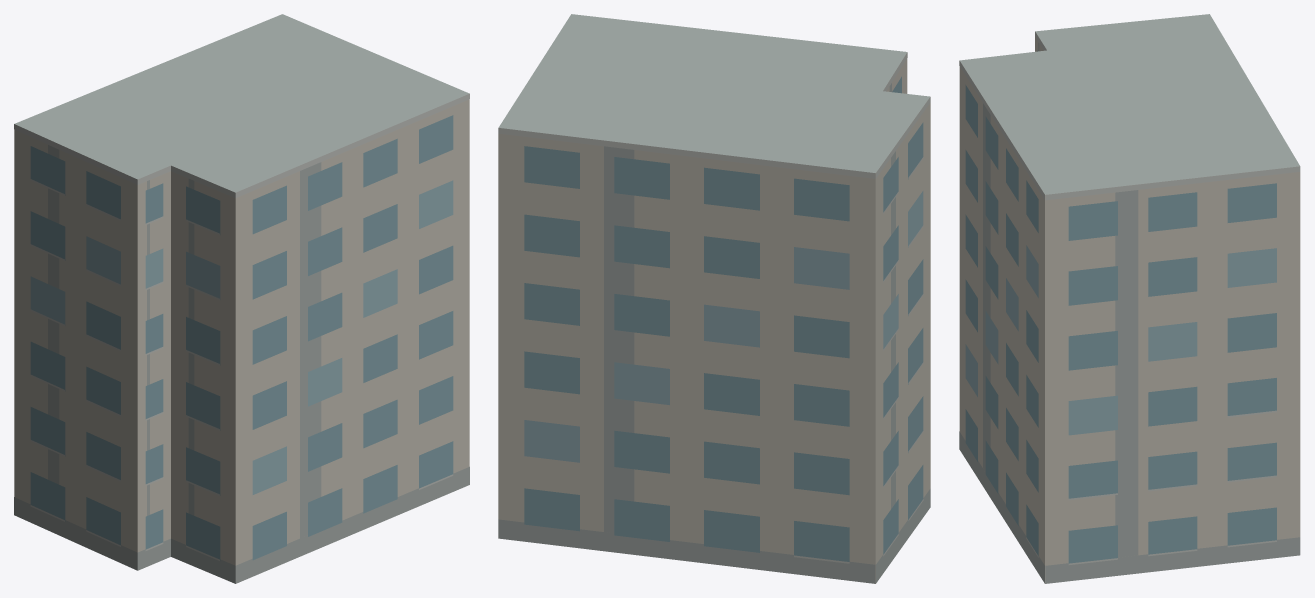
File: survey-upis-32818732.glb
3 views of the same model, side by side, from view 1: azimuth 30°, elevation 25°; view 2: azimuth 150°, elevation 25°; view 3: azimuth 270°, elevation 25° (orthographic). The views are drawn at different scales.
Visible parts, largest first — view 1: survey-upis-32818732.tmp; view 2: survey-upis-32818732.tmp; view 3: survey-upis-32818732.tmp.
Part boxes in pixels (left/top/right/bottom): survey-upis-32818732.tmp: left=14, top=14, right=469, bottom=583; survey-upis-32818732.tmp: left=498, top=14, right=930, bottom=583; survey-upis-32818732.tmp: left=959, top=14, right=1300, bottom=583.
Size of the model in its own units: 17.16 by 17.2 by 13.67.
